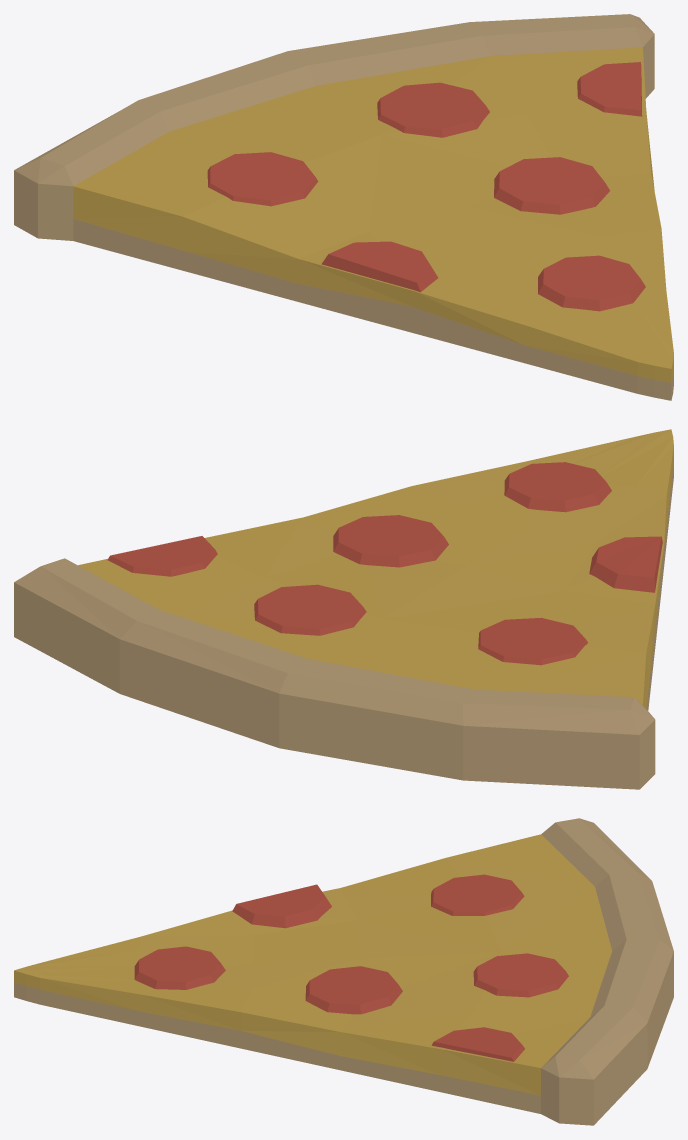
The model's file is Pizza_Slice.glb.
The picture shows the model from 3 angles, top to bottom: view 1: azimuth 30°, elevation 25°; view 2: azimuth 150°, elevation 25°; view 3: azimuth 270°, elevation 25°; orthographic projection. The views are drawn at different scales.
Parts seen in each view (by area): view 1: Pizza_Slice; view 2: Pizza_Slice; view 3: Pizza_Slice.
Part boxes in pixels (bbox=[...]): Pizza_Slice: bbox=[14, 14, 673, 400]; Pizza_Slice: bbox=[14, 429, 673, 789]; Pizza_Slice: bbox=[14, 818, 673, 1125].
Size of the model in its own units: 1.07 by 0.1128 by 1.16.
